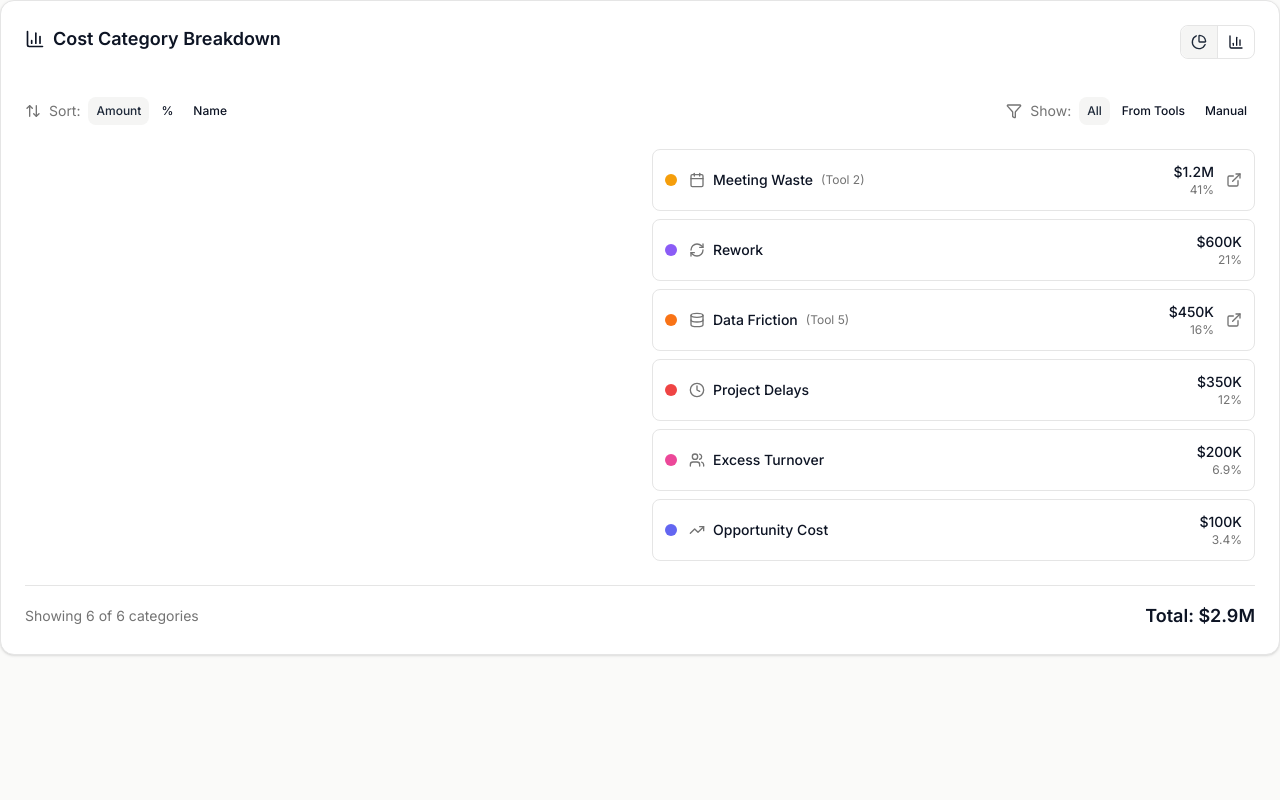
Test case: CostCategoryChart › filtering › filters to show only tool-sourced when clicked
Click the button "From Tools". click: [1153, 111]
box: [1114,97,1193,125]
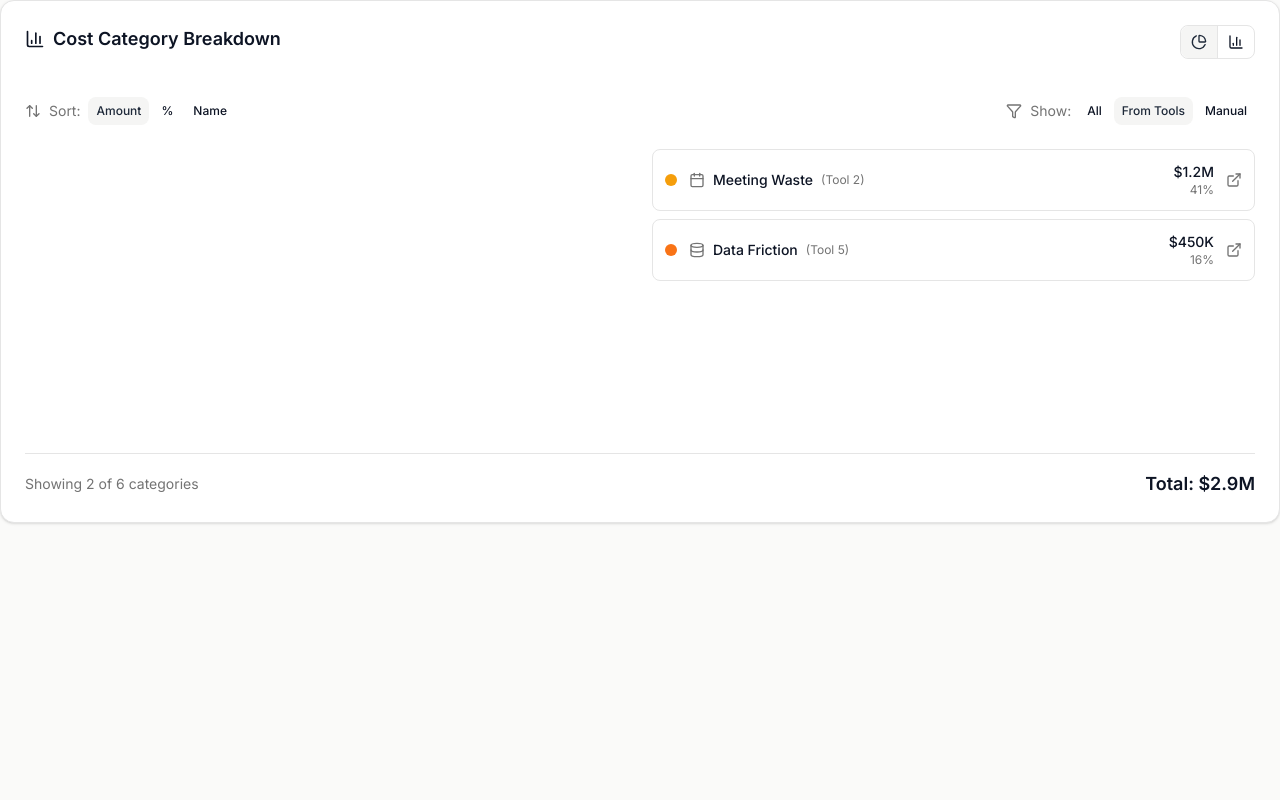
Expected: the text "Meeting Waste" is shown, [713,170,813,190]
Expected: the text "Project Delays" is gone
Expected: the text "Rework" is gone
